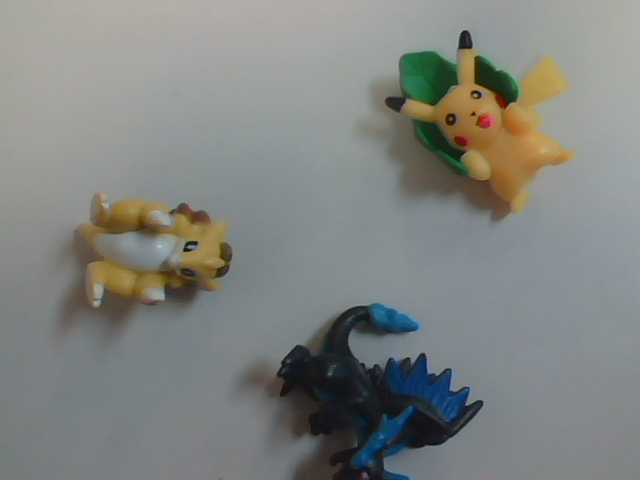charizard: (268, 294, 494, 480)
pikachu: (380, 30, 584, 237)
sandslash: (68, 155, 250, 350)
